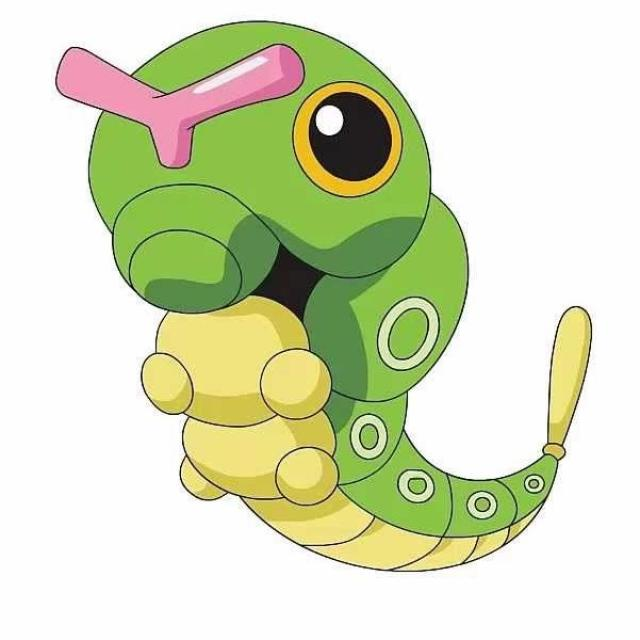Caterpie: (51, 20, 597, 577)
